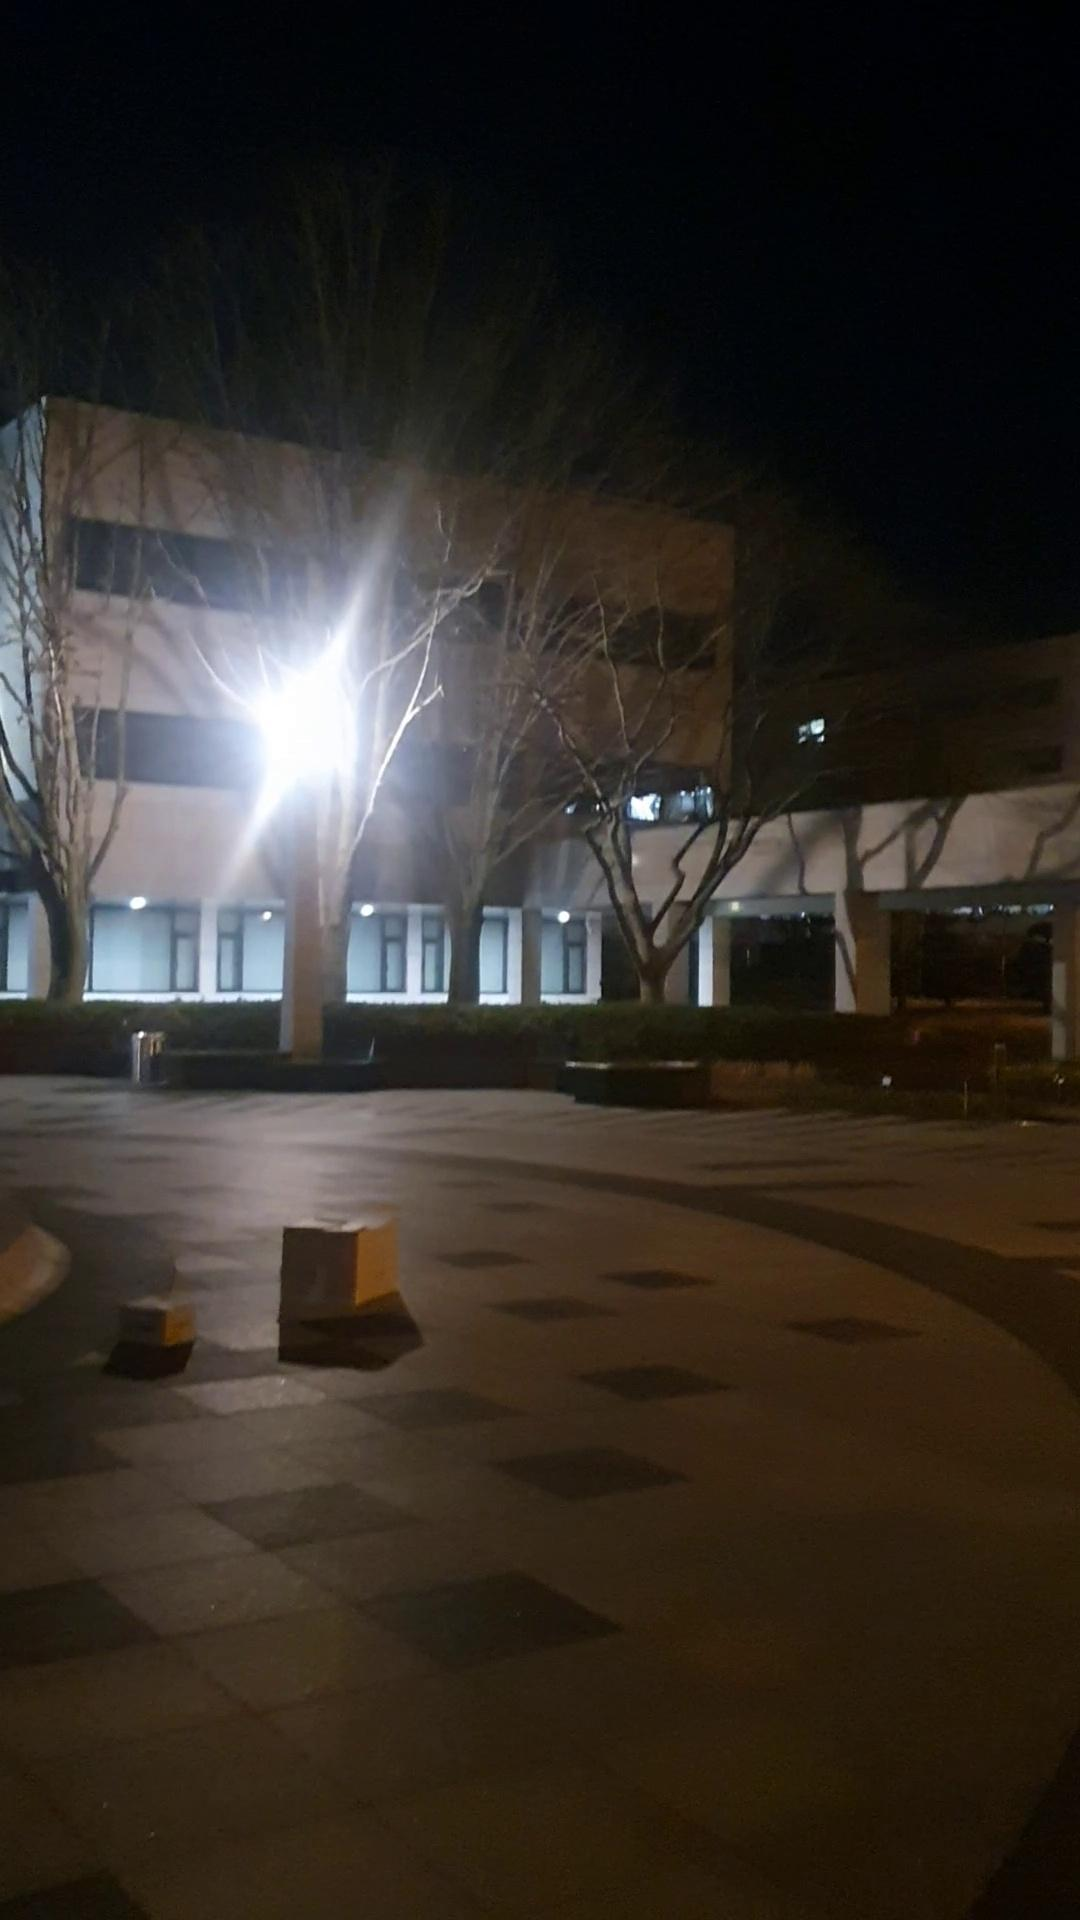Box: (278, 1195, 400, 1327), (116, 1284, 185, 1357)
